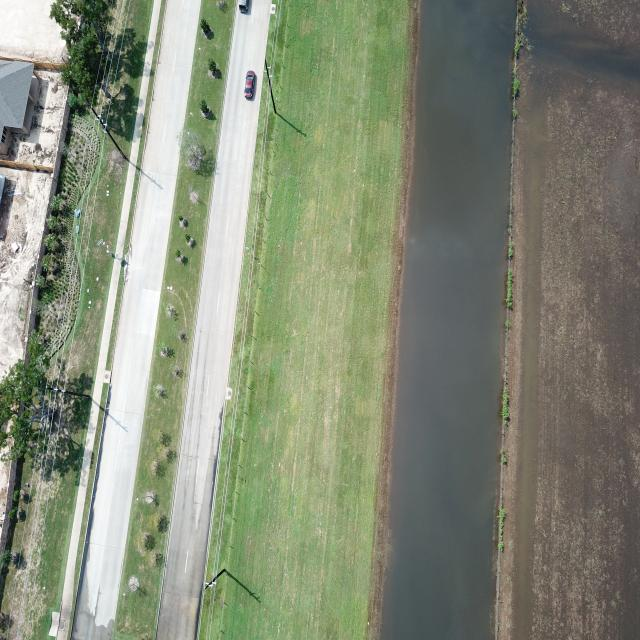fire: (381, 0, 517, 639)
